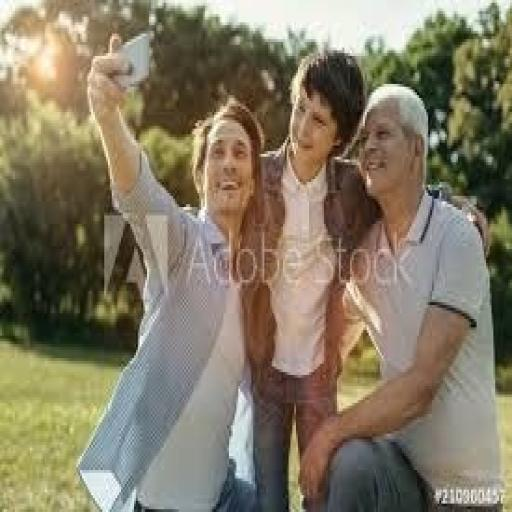hugging: (76, 28, 503, 509)
